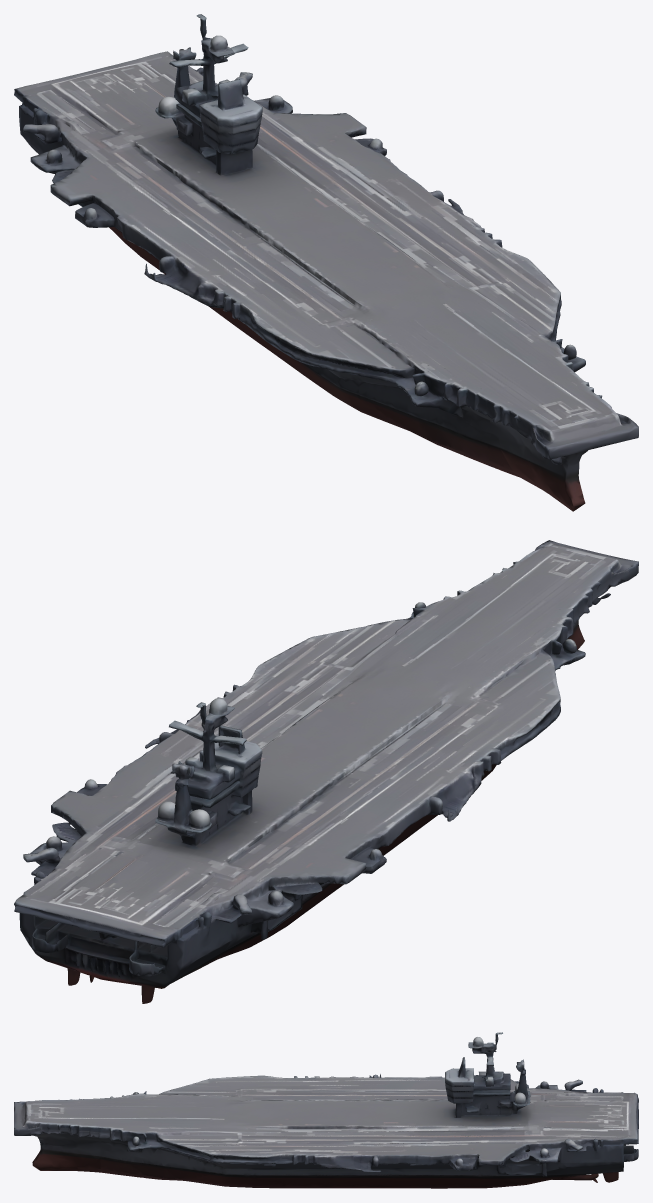
Rendered from porta_avioes.glb.
3 renders of one model, top to bottom at view 1: azimuth 30°, elevation 25°; view 2: azimuth 150°, elevation 25°; view 3: azimuth 270°, elevation 25°, orthographic. The views are drawn at different scales.
Visible parts, largest first — view 1: tripo_node_472b3855-4738-4052-922d-69e28be08adb; view 2: tripo_node_472b3855-4738-4052-922d-69e28be08adb; view 3: tripo_node_472b3855-4738-4052-922d-69e28be08adb.
Part boxes in pixels (<box>): tripo_node_472b3855-4738-4052-922d-69e28be08adb: <box>14,14,638,511</box>; tripo_node_472b3855-4738-4052-922d-69e28be08adb: <box>14,540,638,1003</box>; tripo_node_472b3855-4738-4052-922d-69e28be08adb: <box>14,1032,638,1188</box>.
Bounding box in the file's own units: 0.3497 × 0.2482 × 1.
Materials: 1 (1 with a texture image).
